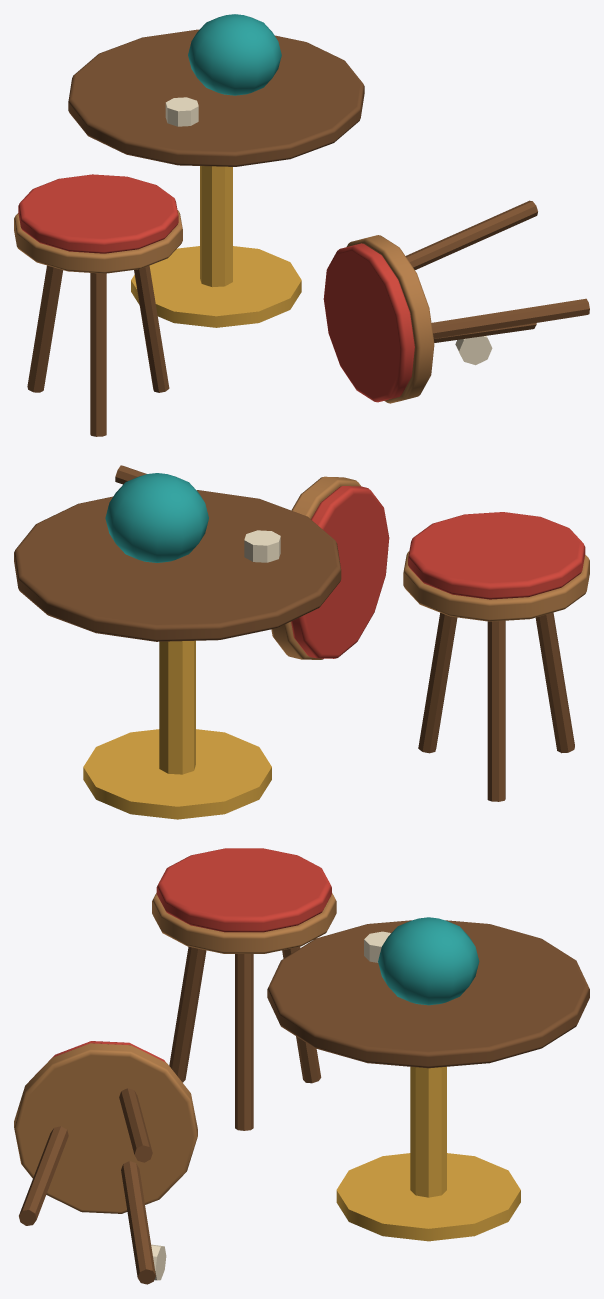
Rendered from mk_stools.glb.
The picture shows the model from 3 angles, top to bottom: view 1: azimuth 30°, elevation 25°; view 2: azimuth 150°, elevation 25°; view 3: azimuth 270°, elevation 25°; orthographic projection. The views are drawn at different scales.
Parts seen in each view (by area): view 1: mk_stools_body; view 2: mk_stools_body; view 3: mk_stools_body.
Part boxes in pixels (x1=…): mk_stools_body: x1=14, y1=14, x2=589, y2=436; mk_stools_body: x1=14, y1=465, x2=589, y2=819; mk_stools_body: x1=14, y1=848, x2=589, y2=1284.
Bounding box in the file's own units: 1.25 × 0.7135 × 1.25.
